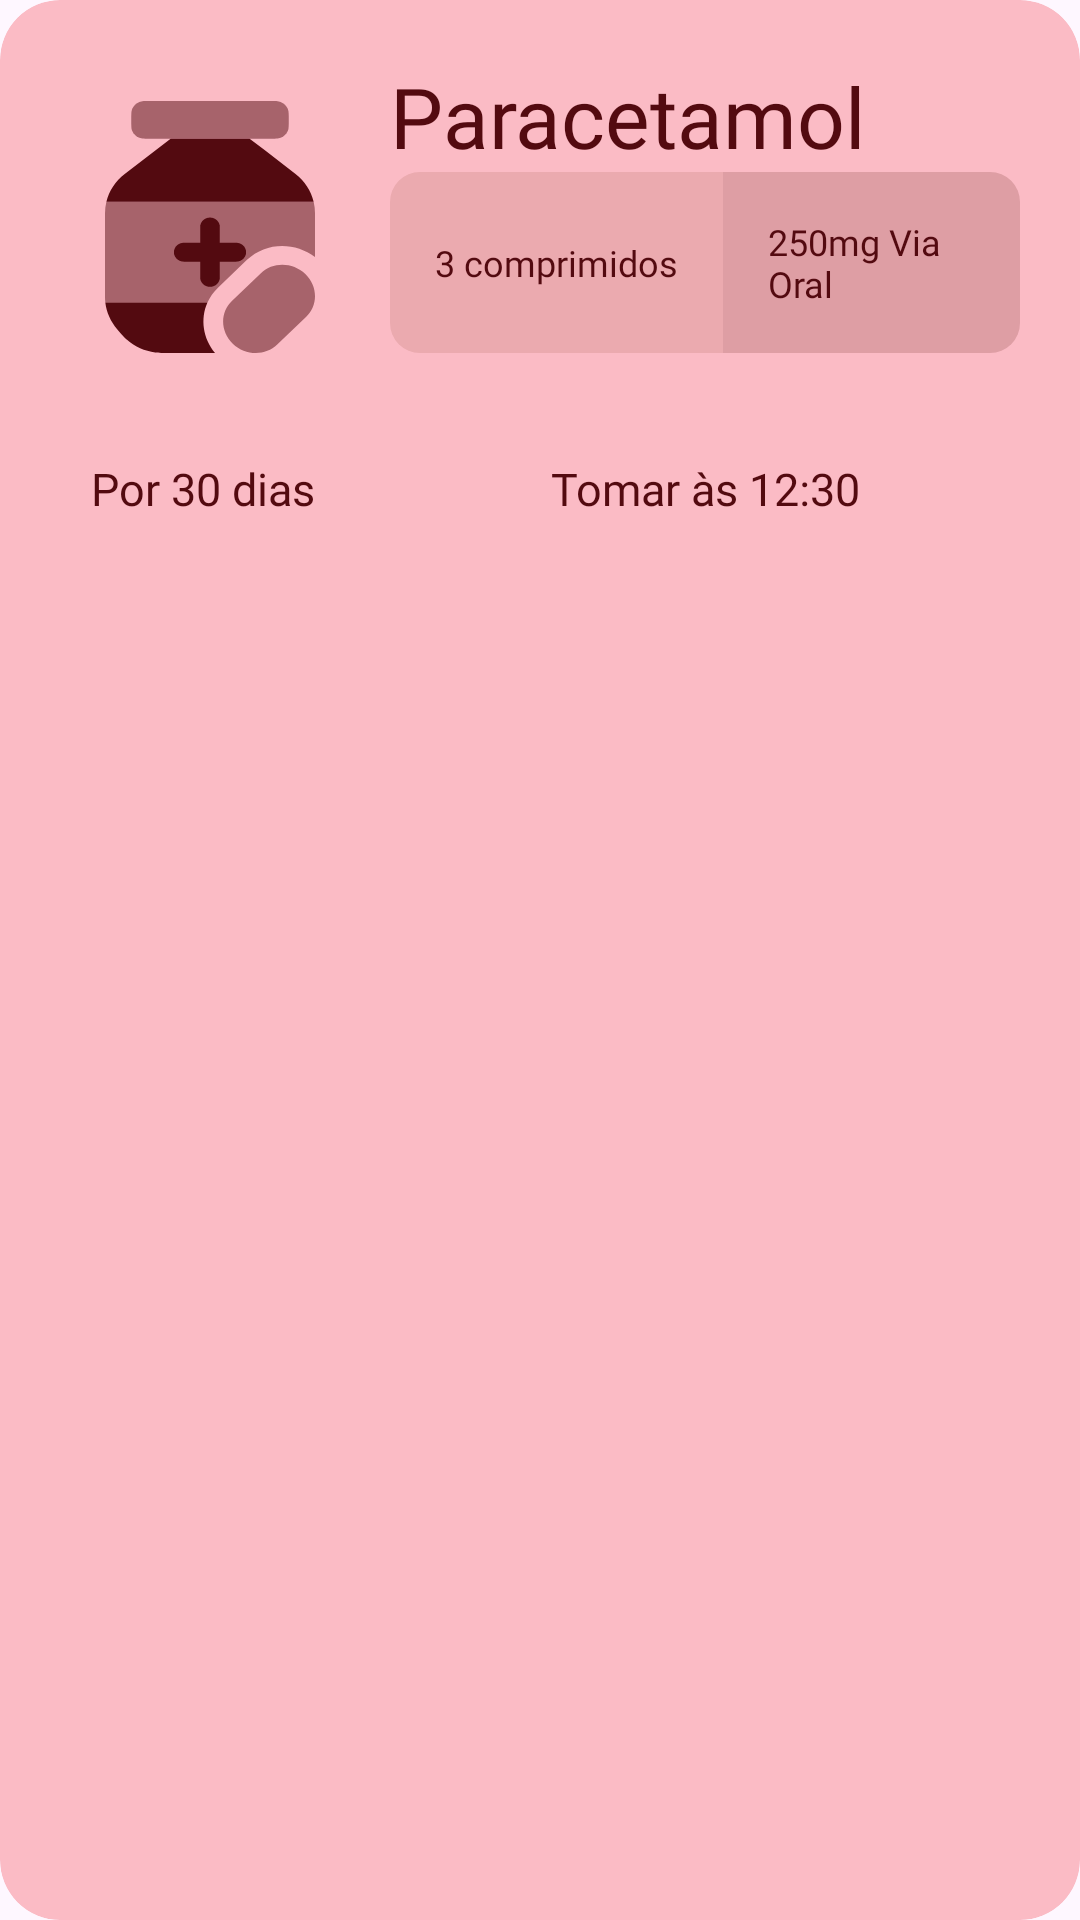

Named icons in this screenshot (1080×1920) and their centers, [x,y]:
medical: [210,227]
